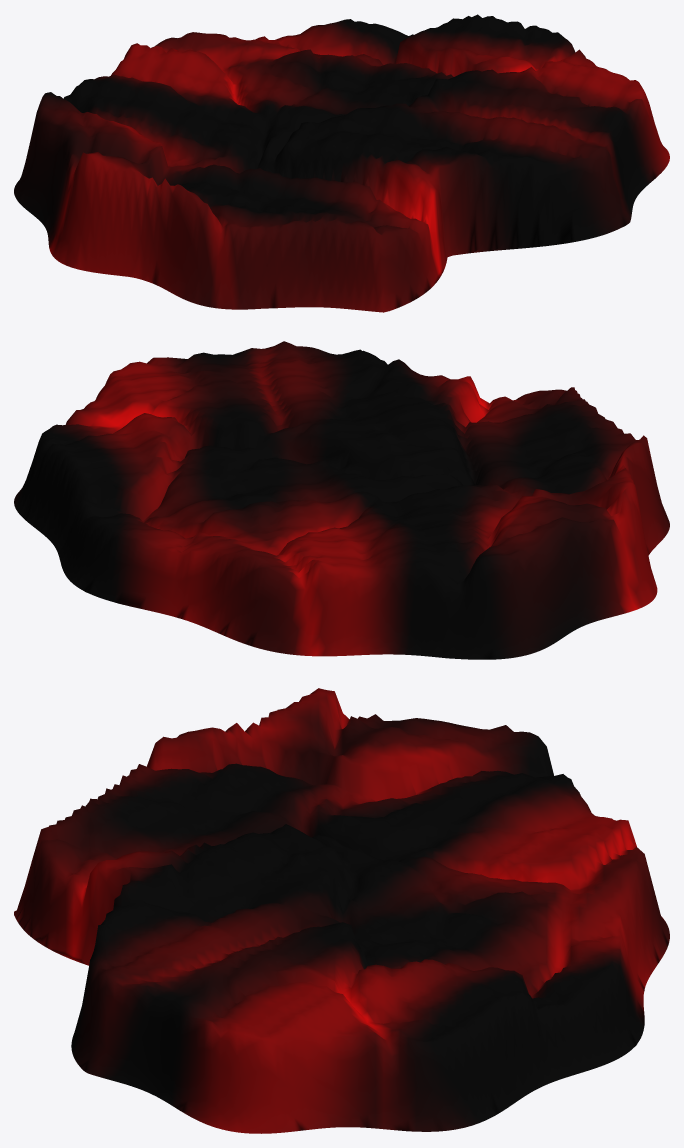
Rendered from SM_BedrockSlab_03.fbx.
3 renders of one model, top to bottom at view 1: azimuth 30°, elevation 25°; view 2: azimuth 150°, elevation 25°; view 3: azimuth 270°, elevation 25°, orthographic. The views are drawn at different scales.
Parts seen in each view (by area): view 1: SM_BedrockSlab_03; view 2: SM_BedrockSlab_03; view 3: SM_BedrockSlab_03.
Boxes of the visible parts, x1,y1,x2,y2 form: SM_BedrockSlab_03: (14,14,669,312); SM_BedrockSlab_03: (14,341,669,659); SM_BedrockSlab_03: (14,688,669,1133).
Size of the model in its own units: 291 by 241 by 51.18.
